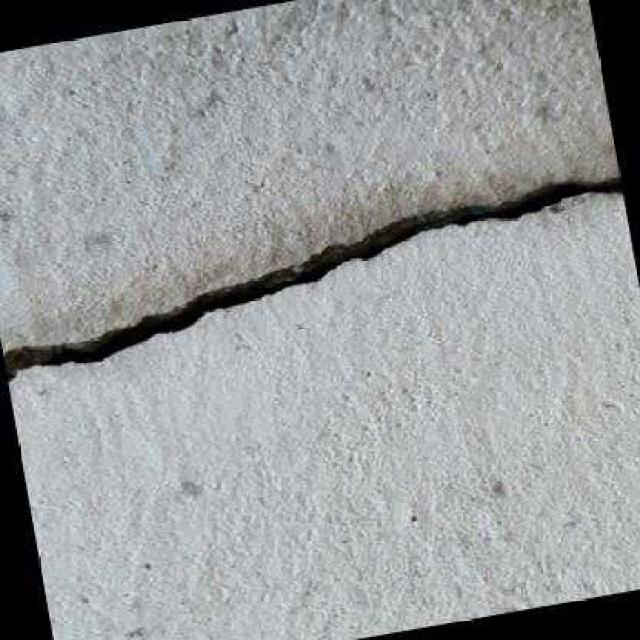D00: (1, 170, 623, 383)
